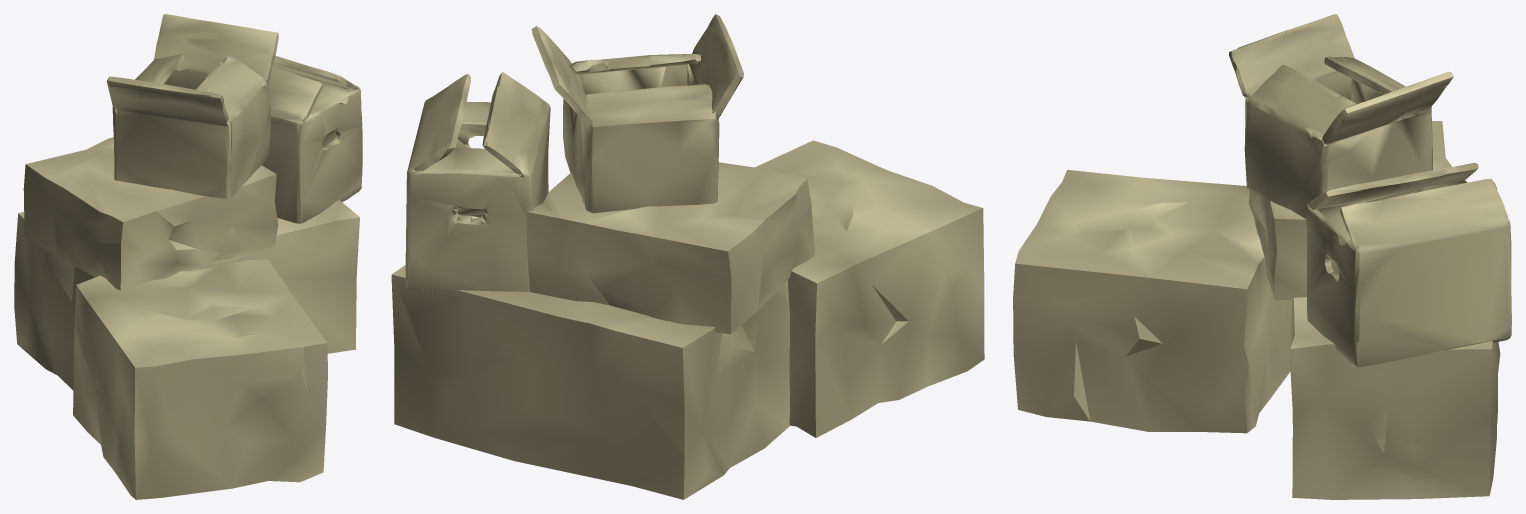
File: BoxStack01.fbx
The picture shows the model from 3 angles, left to right: view 1: azimuth 30°, elevation 25°; view 2: azimuth 150°, elevation 25°; view 3: azimuth 270°, elevation 25°; orthographic projection. The views are drawn at different scales.
Visible parts, largest first — view 1: BoxStack01; view 2: BoxStack01; view 3: BoxStack01.
Boxes of the visible parts, x1,y1,x2,y2 form: BoxStack01: (14,14,362,499); BoxStack01: (391,14,984,499); BoxStack01: (1013,14,1511,499).
Size of the model in its own units: 157 by 135 by 168.
